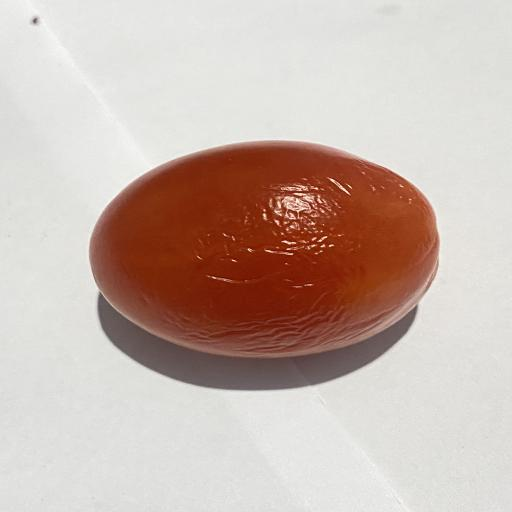spoiled: (90, 141, 439, 358), (90, 141, 439, 357)
